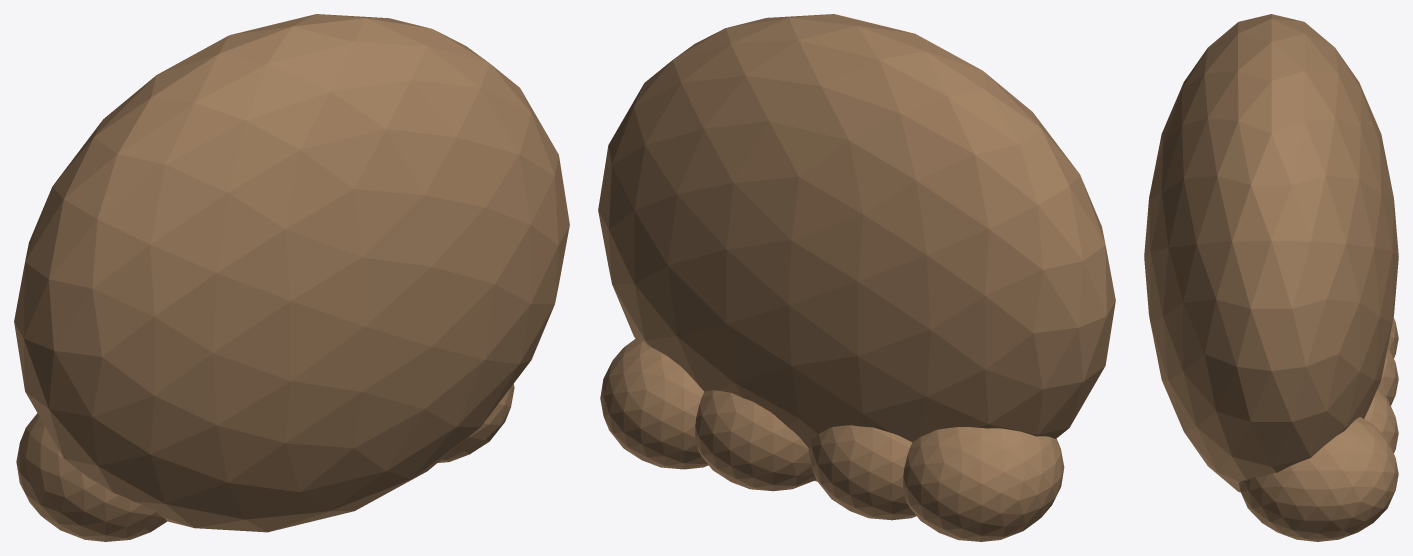
File: pelo-corto.glb
3 renders of one model, left to right at view 1: azimuth 30°, elevation 25°; view 2: azimuth 150°, elevation 25°; view 3: azimuth 270°, elevation 25°, orthographic. The views are drawn at different scales.
Parts seen in each view (by area): view 1: pelo-corto_00, pelo-corto_01, pelo-corto_04; view 2: pelo-corto_00, pelo-corto_01, pelo-corto_04, pelo-corto_03, pelo-corto_02; view 3: pelo-corto_00, pelo-corto_04, pelo-corto_03, pelo-corto_02.
Boxes of the visible parts, x1,y1,x2,y2 form: pelo-corto_00: (14, 14, 569, 532); pelo-corto_01: (16, 413, 166, 541); pelo-corto_04: (438, 383, 514, 462); pelo-corto_00: (598, 14, 1115, 481); pelo-corto_01: (903, 427, 1064, 541); pelo-corto_04: (600, 338, 708, 469); pelo-corto_03: (695, 390, 816, 491); pelo-corto_02: (808, 425, 916, 520); pelo-corto_00: (1144, 14, 1398, 492); pelo-corto_04: (1238, 417, 1398, 541); pelo-corto_03: (1364, 389, 1398, 453); pelo-corto_02: (1377, 346, 1398, 405).
Bounding box in the file's own units: 0.6726 × 0.5909 × 0.3171.
